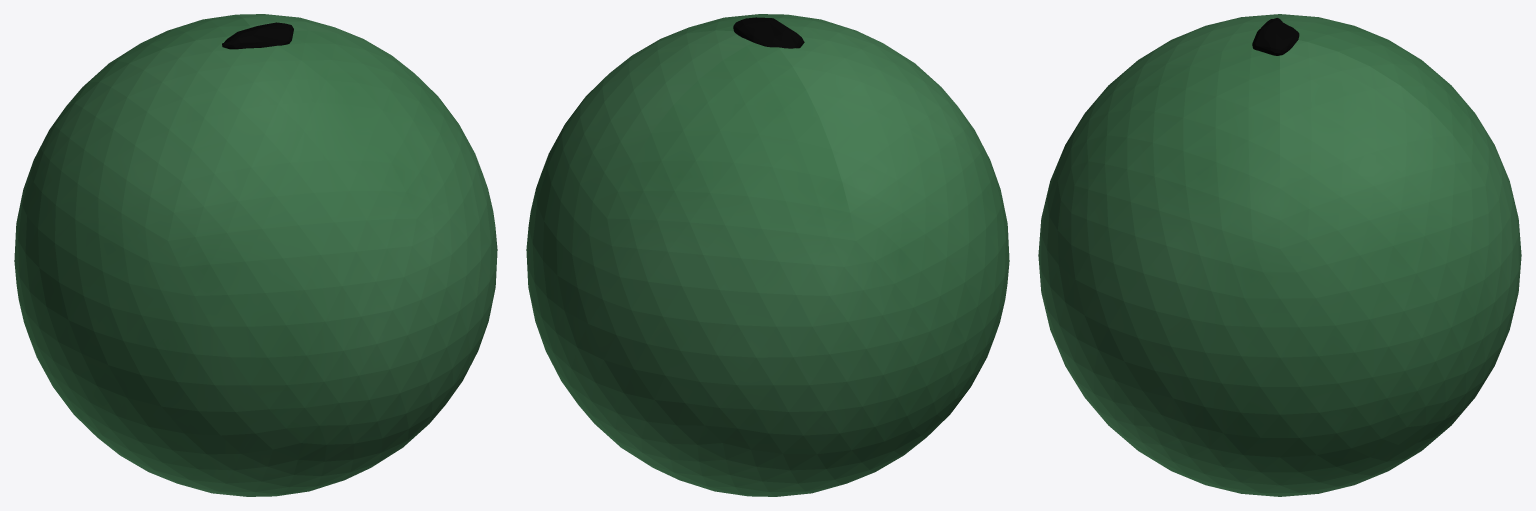
The picture shows the model from 3 angles, left to right: view 1: azimuth 30°, elevation 25°; view 2: azimuth 150°, elevation 25°; view 3: azimuth 270°, elevation 25°; orthographic projection.
Visible parts, largest first — view 1: Suzanne; view 2: Suzanne; view 3: Suzanne.
Part boxes in pixels (<box>): Suzanne: <box>14,14,497,496</box>; Suzanne: <box>526,14,1009,496</box>; Suzanne: <box>1038,14,1521,496</box>.
Size of the model in its own units: 20 by 20.54 by 20.
Materials: 2 (2 with a texture image).
